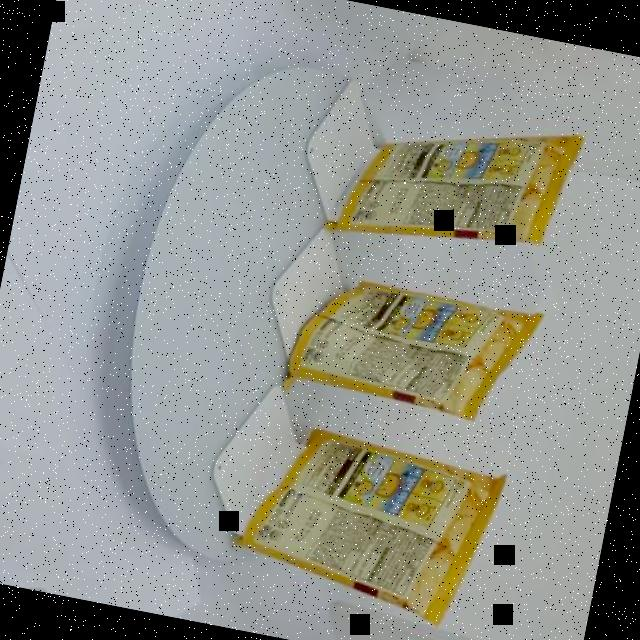snack_bag: (211, 70, 602, 640)
